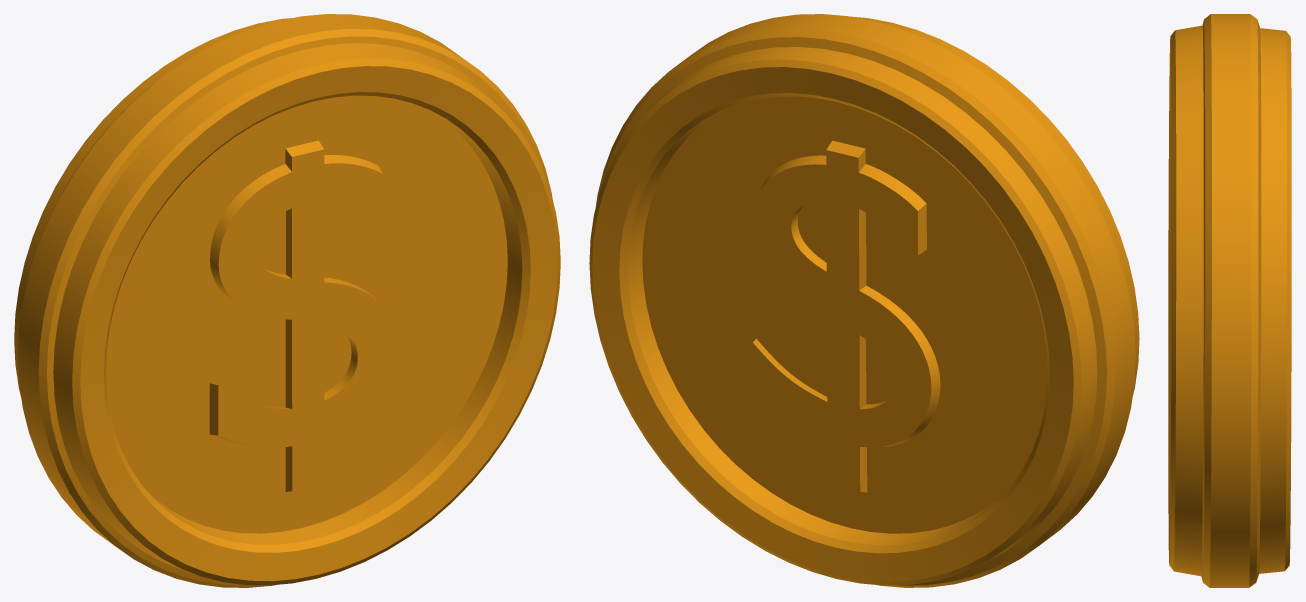
File: Coin.fbx
The picture shows the model from 3 angles, left to right: view 1: azimuth 30°, elevation 25°; view 2: azimuth 150°, elevation 25°; view 3: azimuth 270°, elevation 25°; orthographic projection. The views are drawn at different scales.
Visible parts, largest first — view 1: Coin; view 2: Coin; view 3: Coin.
Boxes of the visible parts, bbox=[...] form: Coin: bbox=[14, 14, 560, 587]; Coin: bbox=[589, 14, 1139, 587]; Coin: bbox=[1168, 14, 1291, 587].
Size of the model in its own units: 42.55 by 198 by 198.
